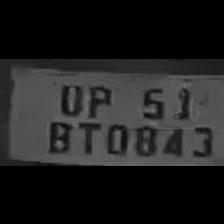0: (100, 118, 128, 154)
1: (169, 82, 193, 120)
3: (186, 120, 216, 158)
4: (159, 122, 186, 156)
5: (135, 82, 167, 120)
8: (131, 120, 158, 156)
B: (44, 116, 74, 152)
P: (82, 78, 112, 116)
T: (72, 118, 100, 154)
U: (52, 78, 84, 116)
